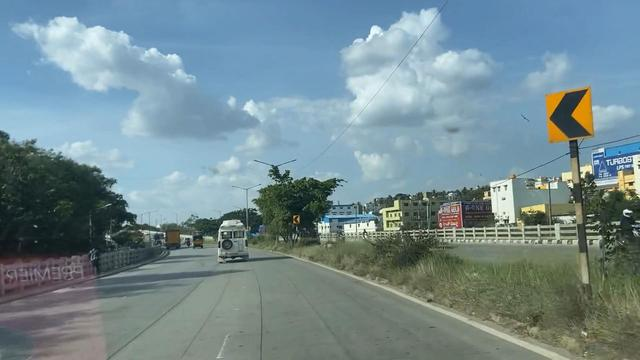HMV: (211, 221, 250, 264)
